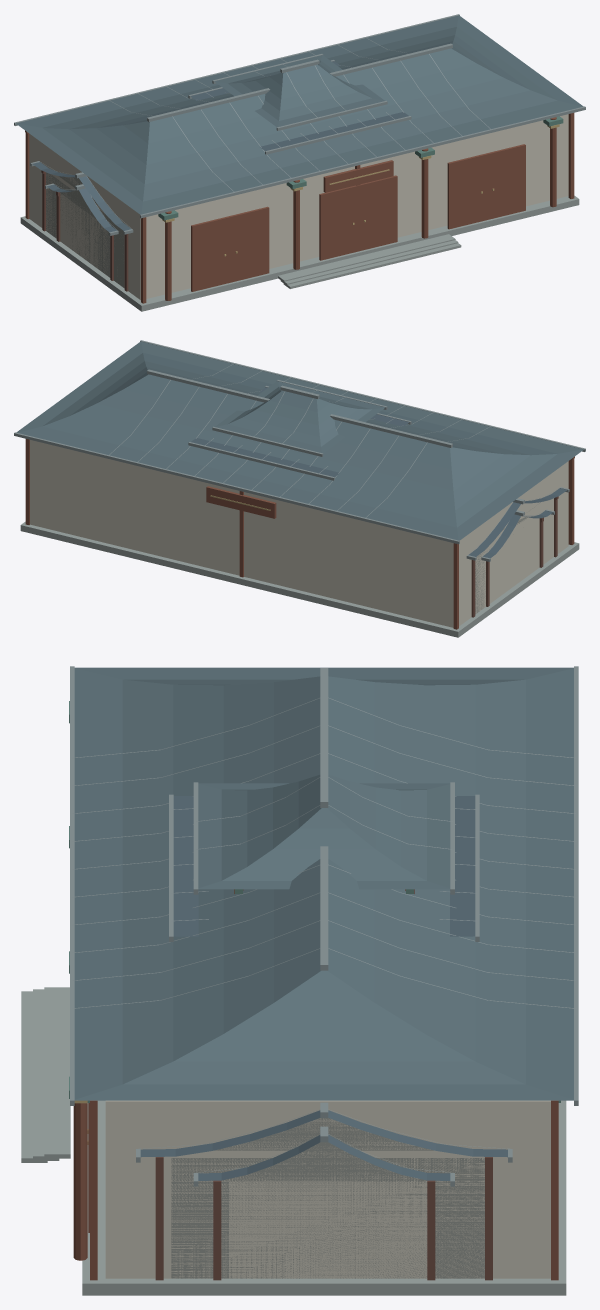
The model's file is urban-context.glb.
3 views of the same model, one above another, from view 1: azimuth 30°, elevation 25°; view 2: azimuth 150°, elevation 25°; view 3: azimuth 270°, elevation 25° (orthographic). The views are drawn at different scales.
Parts seen in each view (by area): view 1: Urban_temple_roof.001, Urban_temple_plaster.001, Urban_temple_redwood.001, Urban_temple_stone.001, Urban_bell-pavilion_roof.001, Urban_temple_tile.001, Urban_warehouse_brick.001, Urban_range_plaster.001, Urban_shop-upper_slateroof.001, Urban_bell-pavilion_tile.001, Urban_shop-upper_tile.001, Urban_warehouse_slateroof.001 (+6 smaller); view 2: Urban_temple_roof.001, Urban_temple_plaster.001, Urban_bell-pavilion_roof.001, Urban_temple_tile.001, Urban_temple_stone.001, Urban_temple_redwood.001, Urban_range_plaster.001, Urban_shop-upper_slateroof.001, Urban_bell-pavilion_tile.001, Urban_shop-upper_tile.001, Urban_warehouse_slateroof.001, Urban_range_stone.001 (+5 smaller); view 3: Urban_temple_roof.001, Urban_temple_plaster.001, Urban_warehouse_brick.001, Urban_bell-pavilion_roof.001, Urban_range_plaster.001, Urban_temple_stone.001, Urban_temple_tile.001, Urban_shop-upper_slateroof.001, Urban_temple_redwood.001, Urban_range_stone.001, Urban_warehouse_stone.001, Urban_warehouse_slateroof.001 (+6 smaller).
Part boxes in pixels (x1,y1,x2,y2): Urban_temple_roof.001: (16,15,583,214); Urban_temple_plaster.001: (29,114,568,300); Urban_temple_redwood.001: (25,113,574,303); Urban_temple_stone.001: (20,195,579,311); Urban_bell-pavilion_roof.001: (214,55,384,127); Urban_temple_tile.001: (14,14,585,218); Urban_warehouse_brick.001: (46,172,124,287); Urban_range_plaster.001: (60,193,109,277); Urban_shop-upper_slateroof.001: (190,61,408,150); Urban_bell-pavilion_tile.001: (212,54,387,130); Urban_shop-upper_tile.001: (188,60,411,154); Urban_warehouse_slateroof.001: (33,162,131,230); Urban_temple_roof.001: (16,341,583,540); Urban_temple_plaster.001: (30,440,568,627); Urban_bell-pavilion_roof.001: (215,381,385,453); Urban_temple_tile.001: (14,340,585,544); Urban_temple_stone.001: (20,521,579,637); Urban_temple_redwood.001: (25,439,574,629); Urban_range_plaster.001: (489,521,537,603); Urban_shop-upper_slateroof.001: (191,387,409,476); Urban_bell-pavilion_tile.001: (212,380,387,456); Urban_shop-upper_tile.001: (188,386,411,480); Urban_warehouse_slateroof.001: (468,488,566,556); Urban_range_stone.001: (485,566,548,614); Urban_temple_roof.001: (74,667,573,1100); Urban_temple_plaster.001: (105,1100,550,1278); Urban_warehouse_brick.001: (171,1118,484,1278); Urban_bell-pavilion_roof.001: (198,774,450,889); Urban_range_plaster.001: (229,1181,427,1278); Urban_temple_stone.001: (21,987,566,1295); Urban_temple_tile.001: (70,666,578,1105); Urban_shop-upper_slateroof.001: (173,796,475,936); Urban_temple_redwood.001: (73,1100,558,1280); Urban_range_stone.001: (205,1278,442,1295); Urban_warehouse_stone.001: (148,1278,500,1295); Urban_warehouse_slateroof.001: (140,1110,507,1157).
Size of the model in its own units: 31.4 by 10.16 by 16.92.
